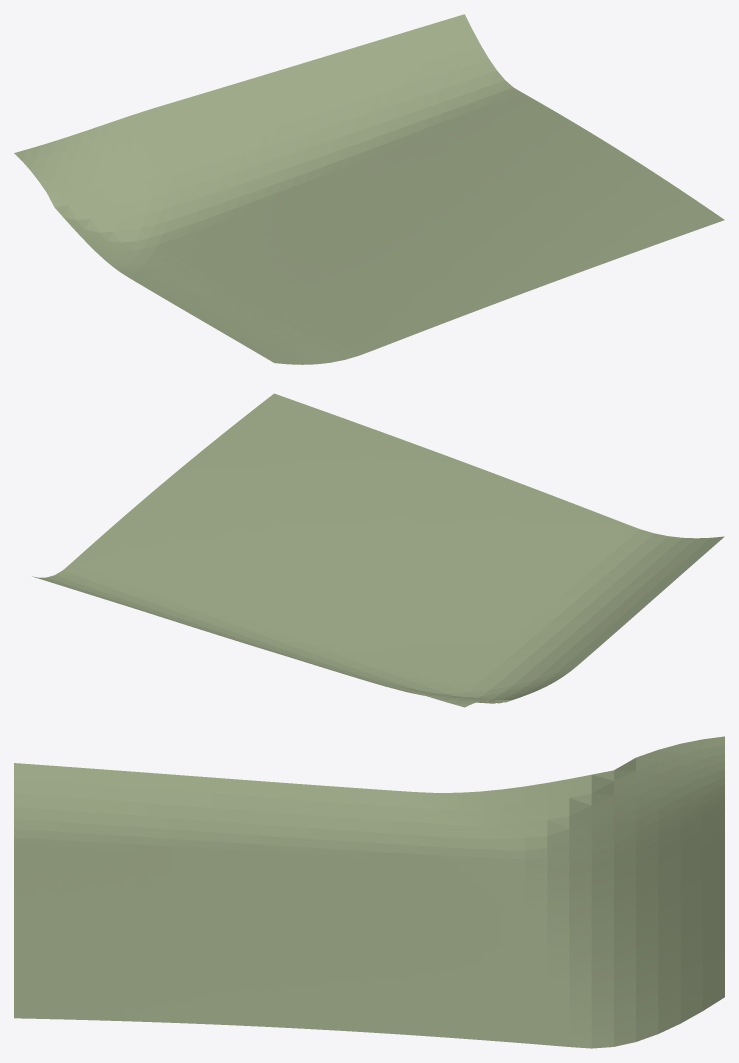
The model's file is alpine-3-3.glb.
The picture shows the model from 3 angles, top to bottom: view 1: azimuth 30°, elevation 25°; view 2: azimuth 150°, elevation 25°; view 3: azimuth 270°, elevation 25°; orthographic projection. The views are drawn at different scales.
Visible parts, largest first — view 1: alpine-3-3; view 2: alpine-3-3; view 3: alpine-3-3.
Part boxes in pixels (box(x1,y1,x2,y2)): alpine-3-3: box(14, 14, 724, 364); alpine-3-3: box(32, 393, 724, 707); alpine-3-3: box(14, 736, 724, 1048).
Bounding box in the file's own units: 256 × 46.12 × 256.
